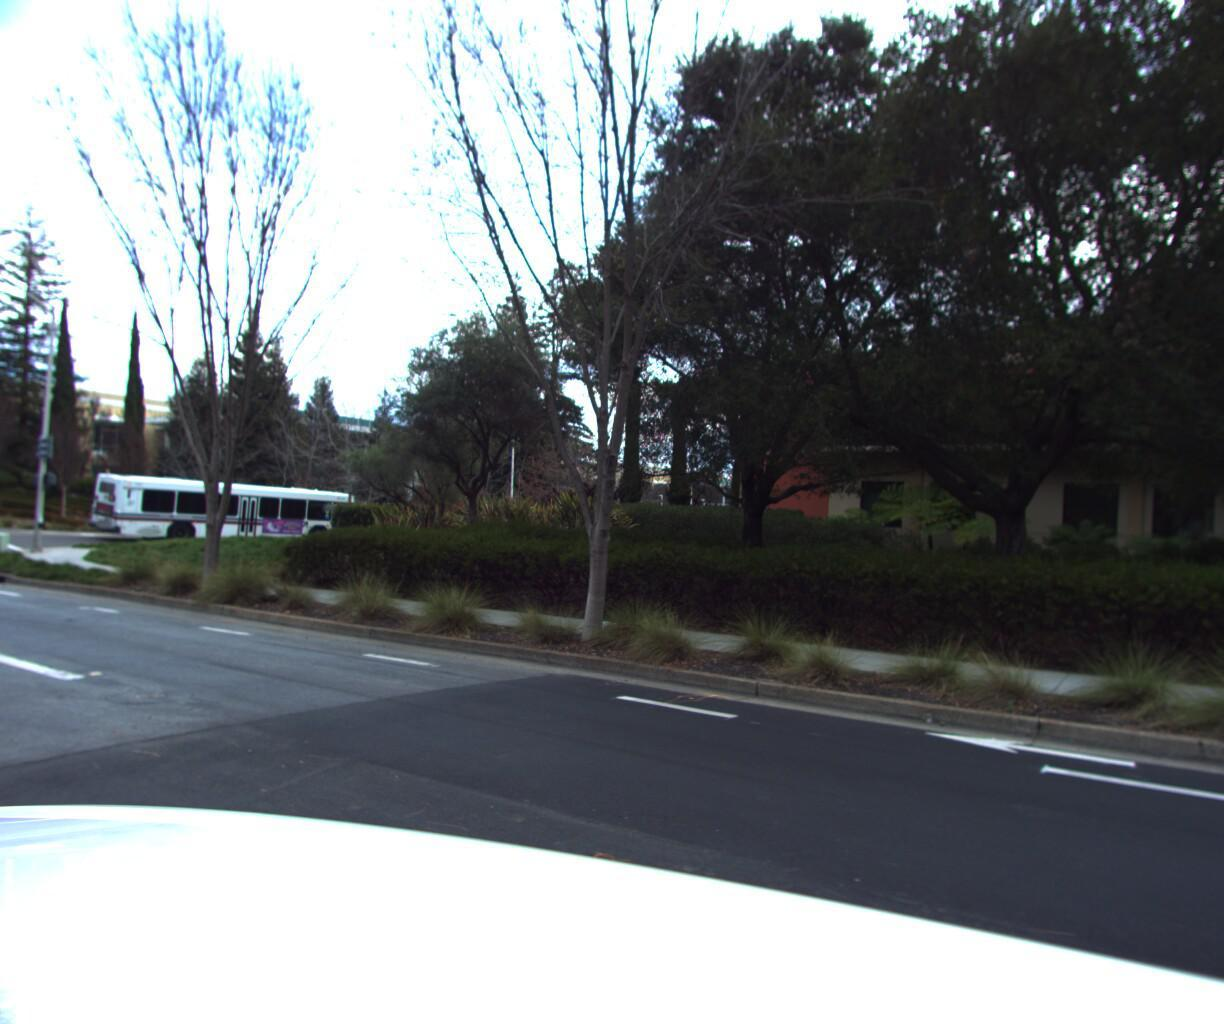bus: (80, 472, 363, 548)
